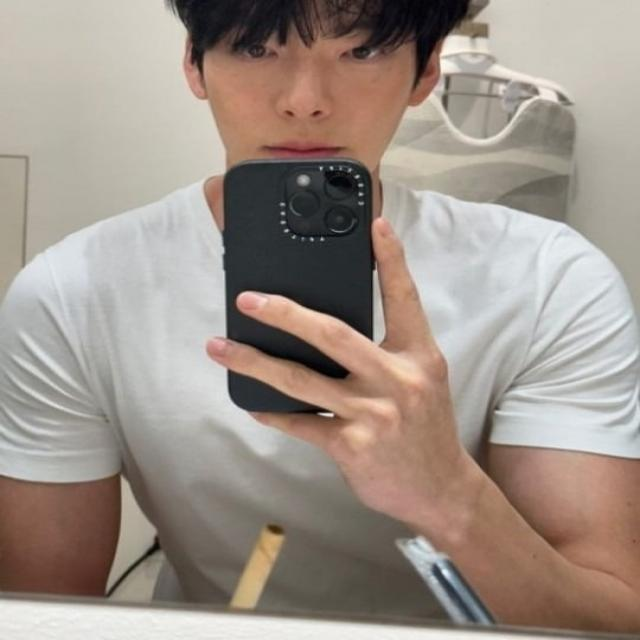phone: (222, 158, 376, 412)
